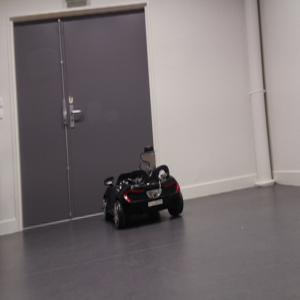big: (102, 165, 186, 229)
